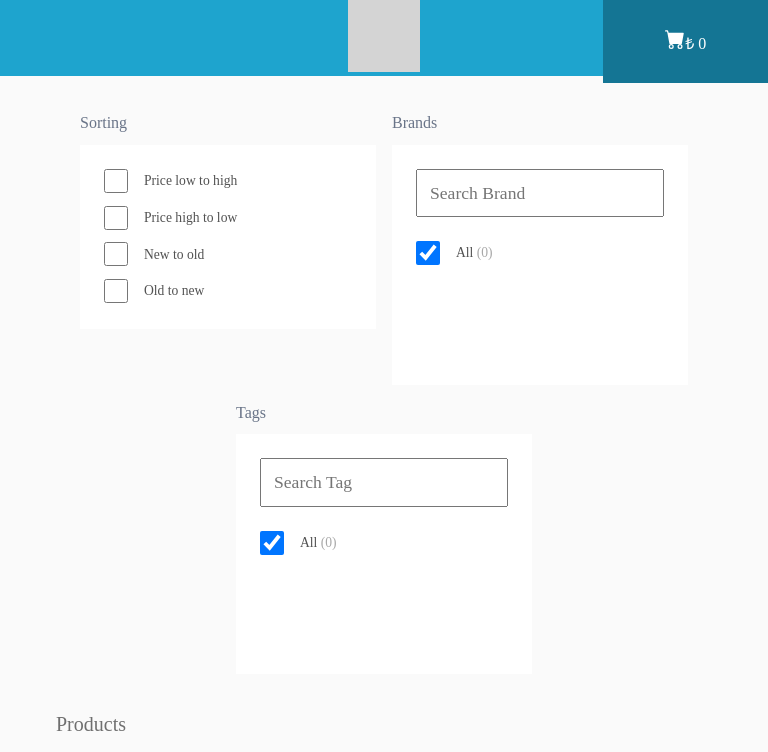
it: First › should render after clicking on the cart icon
This screenshot has width=768, height=752.
Click the element with class "set_show_cart" at (686, 41), box [665,29,706,53]
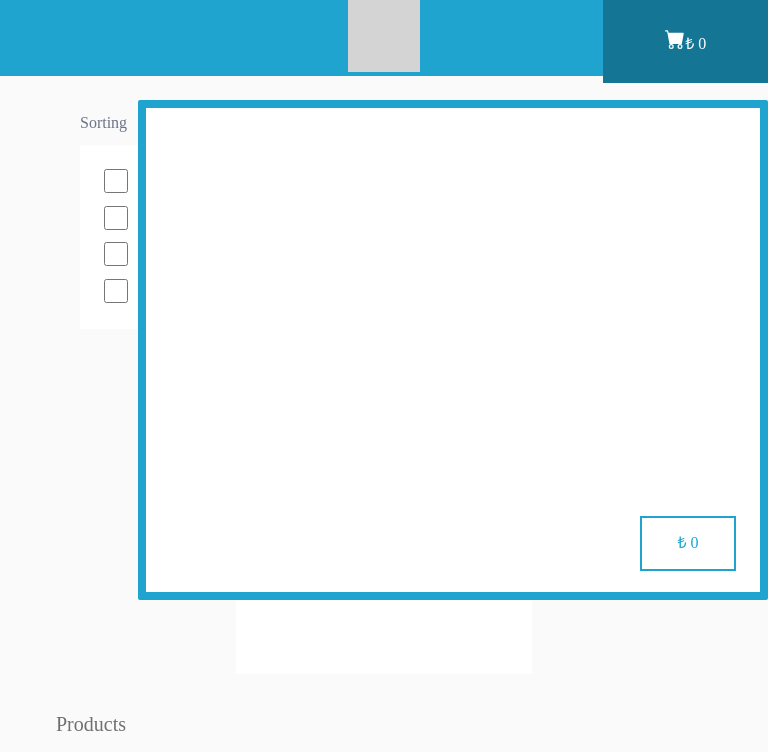
Check: the element with class "test_cart" is shown, box [138,100,767,600]
